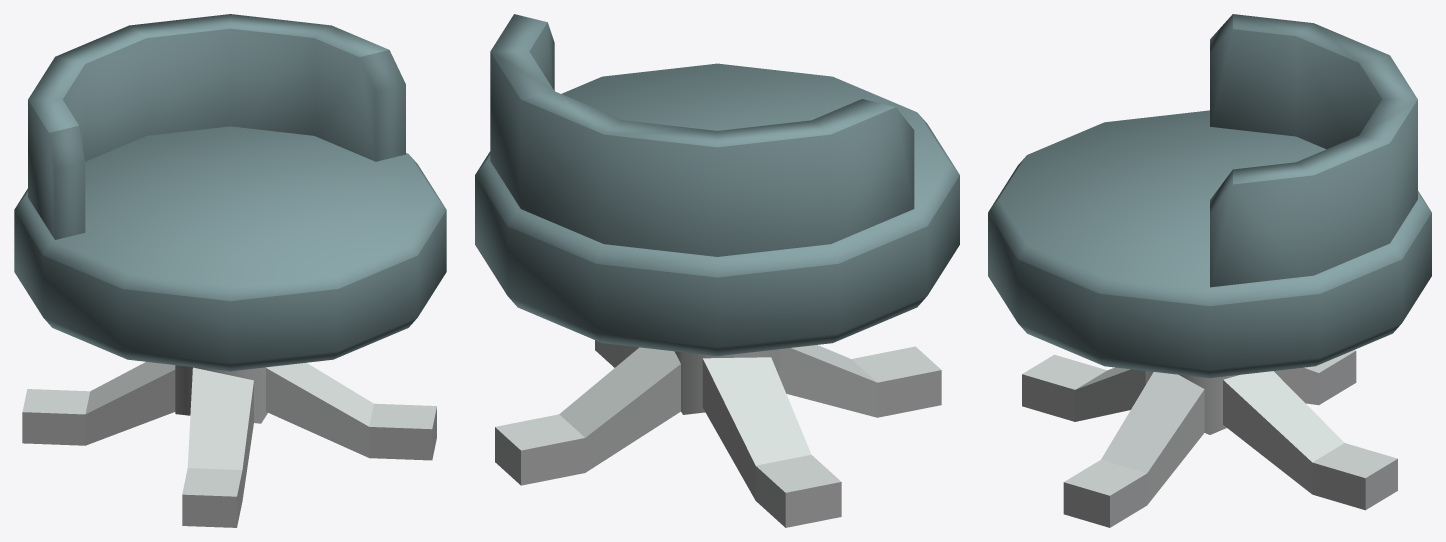
The model's file is Chair.fbx.
3 views of the same model, side by side, from view 1: azimuth 30°, elevation 25°; view 2: azimuth 150°, elevation 25°; view 3: azimuth 270°, elevation 25° (orthographic). The views are drawn at different scales.
Visible parts, largest first — view 1: Chair; view 2: Chair; view 3: Chair.
Boxes of the visible parts, x1,y1,x2,y2 form: Chair: [14, 14, 446, 527]; Chair: [475, 14, 959, 527]; Chair: [988, 14, 1431, 527].
Size of the model in its own units: 52.54 by 45.66 by 52.54.
